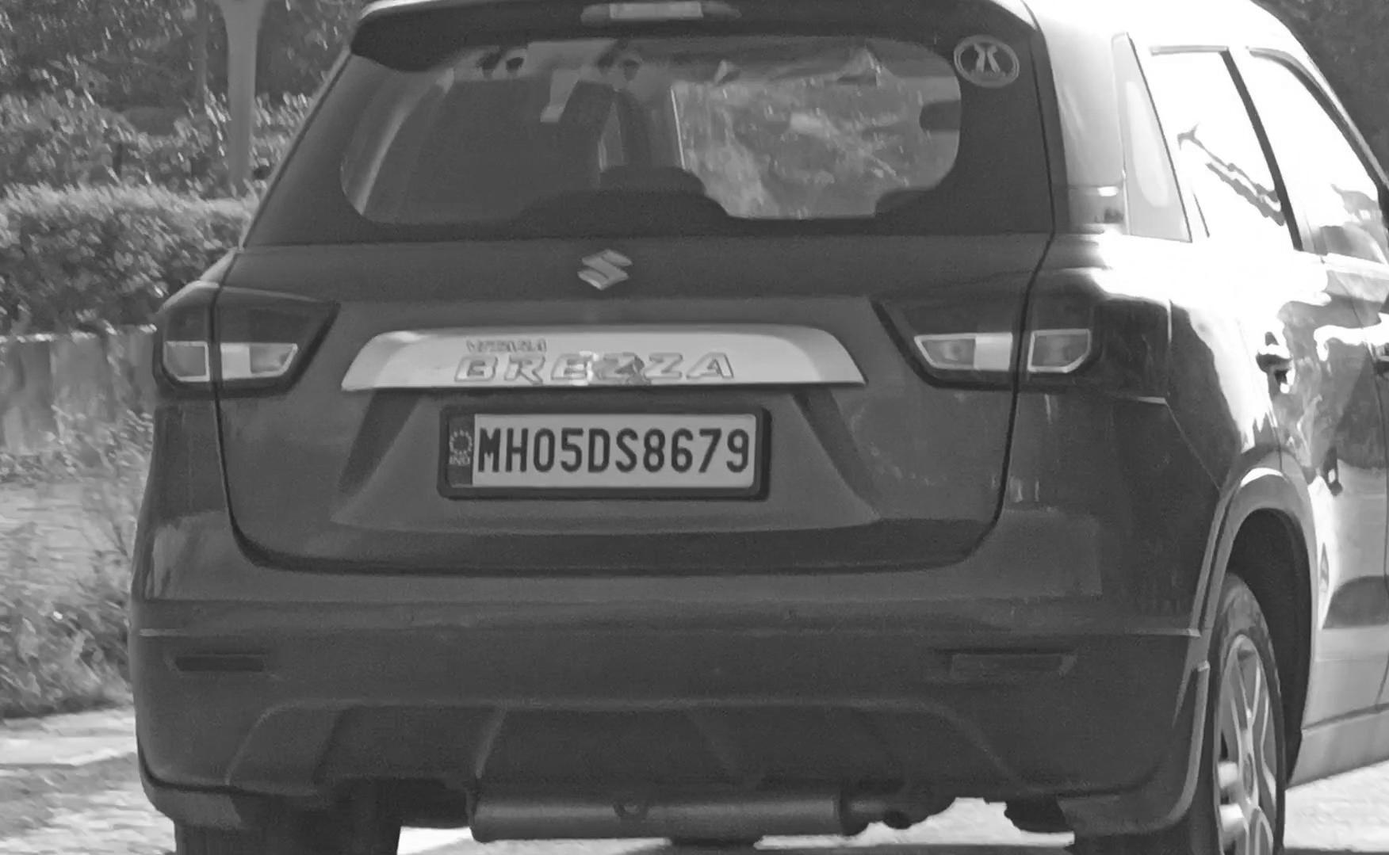number_plate: (453, 415, 765, 492)
